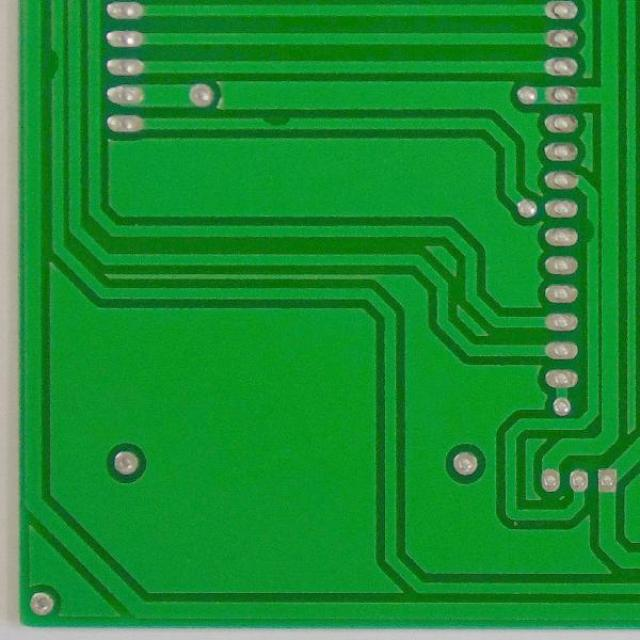MouseBite: (47, 42, 67, 85), (257, 112, 299, 130), (582, 211, 600, 249)
